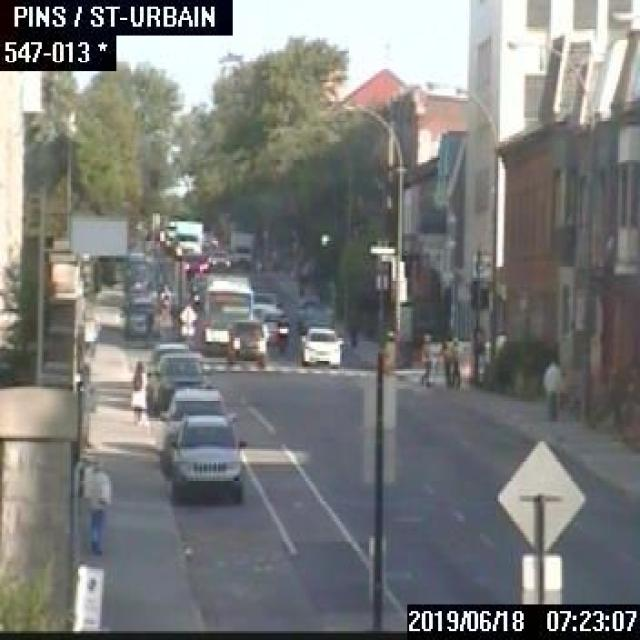bus: (202, 272, 252, 352)
pedestrian: (82, 458, 114, 553), (541, 358, 563, 420), (128, 358, 148, 422), (419, 329, 434, 387), (448, 335, 461, 389), (440, 331, 452, 386), (348, 314, 359, 348)
vehicle: (168, 414, 246, 505), (160, 388, 234, 472), (147, 348, 210, 409), (298, 324, 344, 366), (227, 319, 266, 366), (148, 341, 190, 368), (173, 218, 202, 256), (260, 307, 286, 344), (252, 290, 282, 321), (230, 228, 254, 266), (125, 296, 153, 320), (276, 312, 290, 353), (125, 311, 147, 335), (125, 274, 149, 296), (183, 252, 209, 272), (209, 249, 230, 268), (125, 262, 147, 280), (126, 251, 148, 267), (189, 271, 205, 291), (191, 288, 205, 310), (163, 229, 174, 248)
